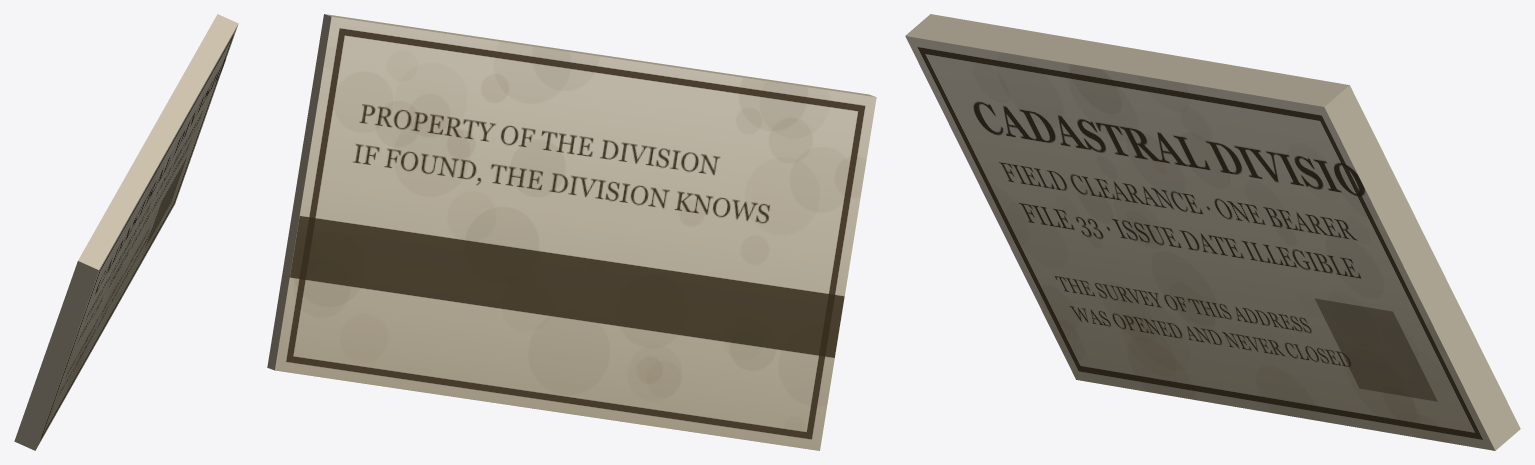
File: keycard3d.glb
3 views of the same model, side by side, from view 1: azimuth 30°, elevation 25°; view 2: azimuth 150°, elevation 25°; view 3: azimuth 270°, elevation 25° (orthographic). The views are drawn at different scales.
Visible parts, largest first — view 1: card; view 2: card; view 3: card.
Part boxes in pixels (<box>): card: <box>14,14,238,450</box>; card: <box>267,14,876,450</box>; card: <box>905,14,1520,450</box>.
Size of the model in its own units: 0.0699 by 0.0709 by 0.0781.
Materials: 1 (1 with a texture image).
